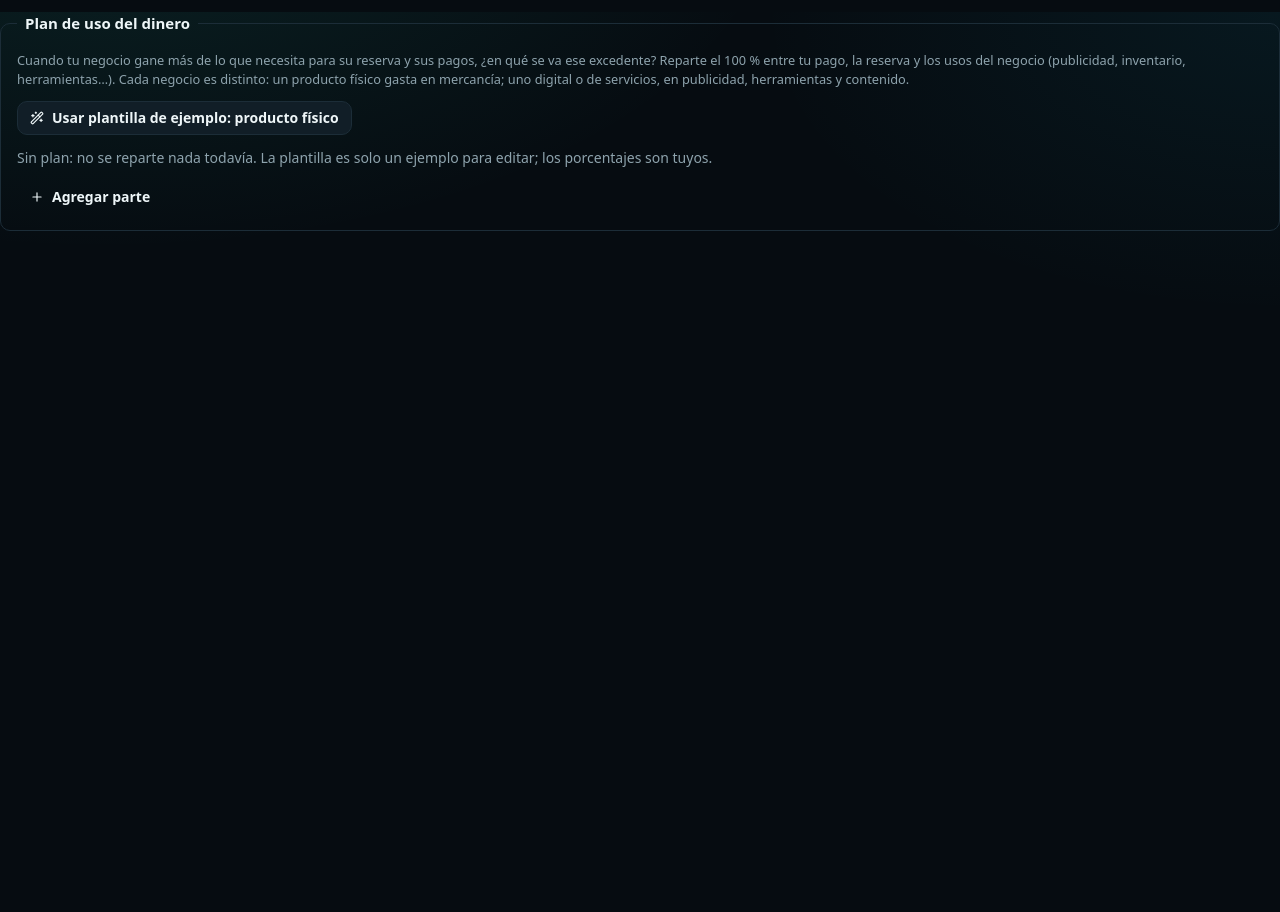
PlanEditor › la plantilla de un negocio físico incluye inventario y suma 100 %
The image size is (1280, 912).
Click the button "Usar plantilla de ejemplo: producto físico". click: [184, 118]
box: [17,101,352,135]
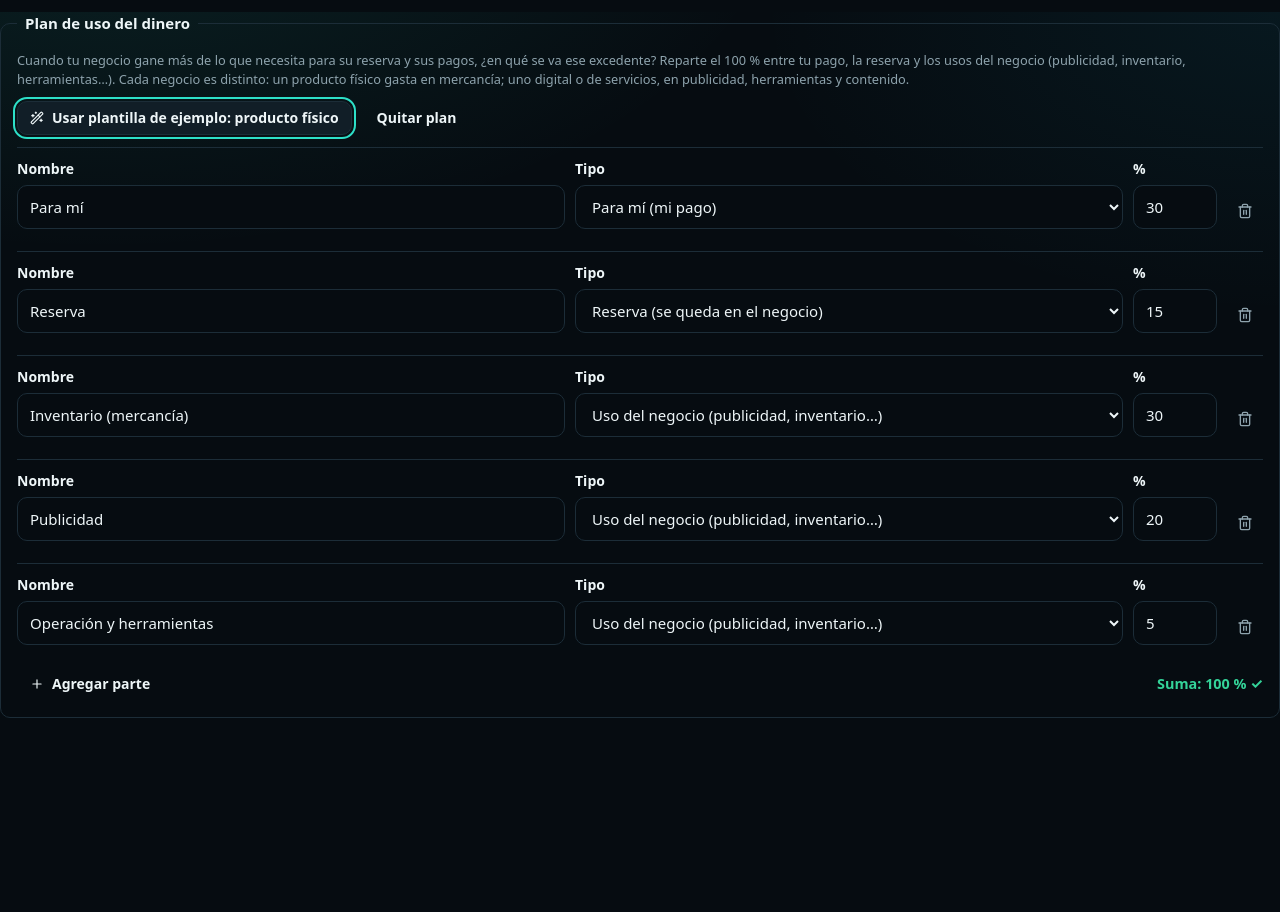
expect the 3rd field showing "Inventario (mercancía)" is shown: met, box [17,393,565,437]
expect the 4th field showing "Publicidad" is shown: met, box [17,497,565,541]
expect the message reads "Suma: 100 % ✓": met, box [1157,673,1263,695]
